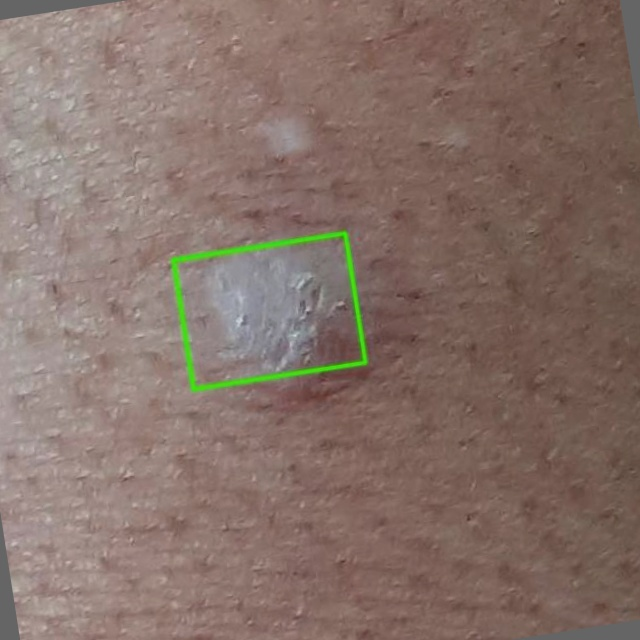Contact Dermatitis: (173, 233, 365, 389)
